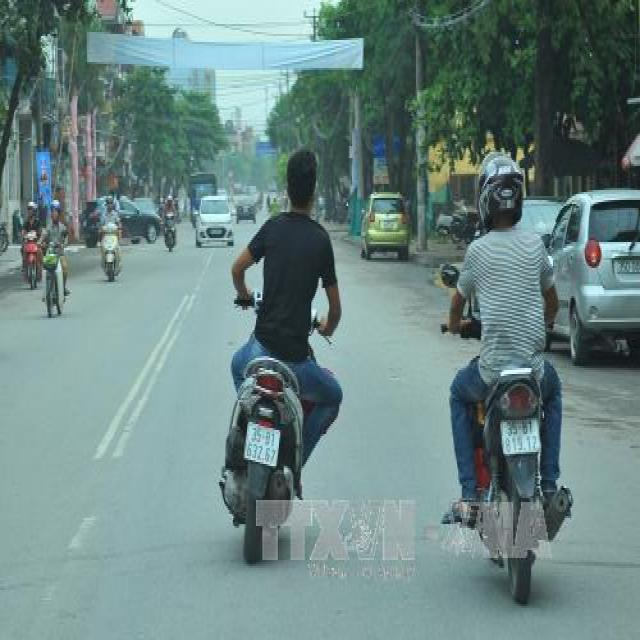helmet: (474, 144, 528, 238)
no_helmet: (280, 141, 323, 216)
